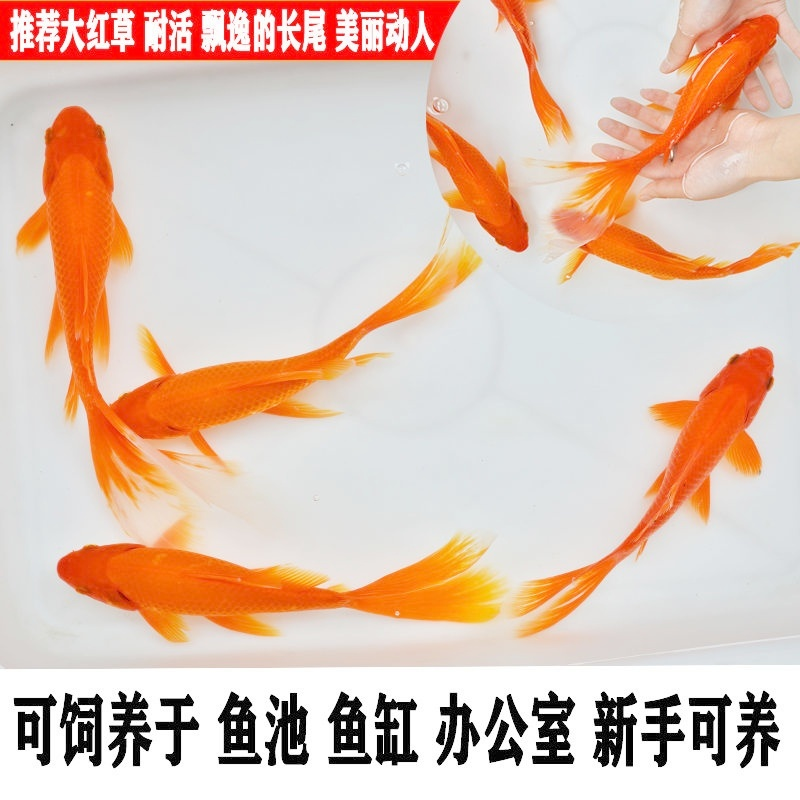fry: (530, 303, 787, 621), (118, 274, 442, 469), (12, 513, 463, 647), (12, 84, 143, 390), (579, 16, 791, 204), (548, 194, 797, 299), (417, 106, 538, 268), (487, 6, 588, 147)
